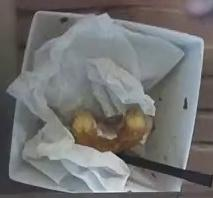donut: (70, 103, 151, 152)
